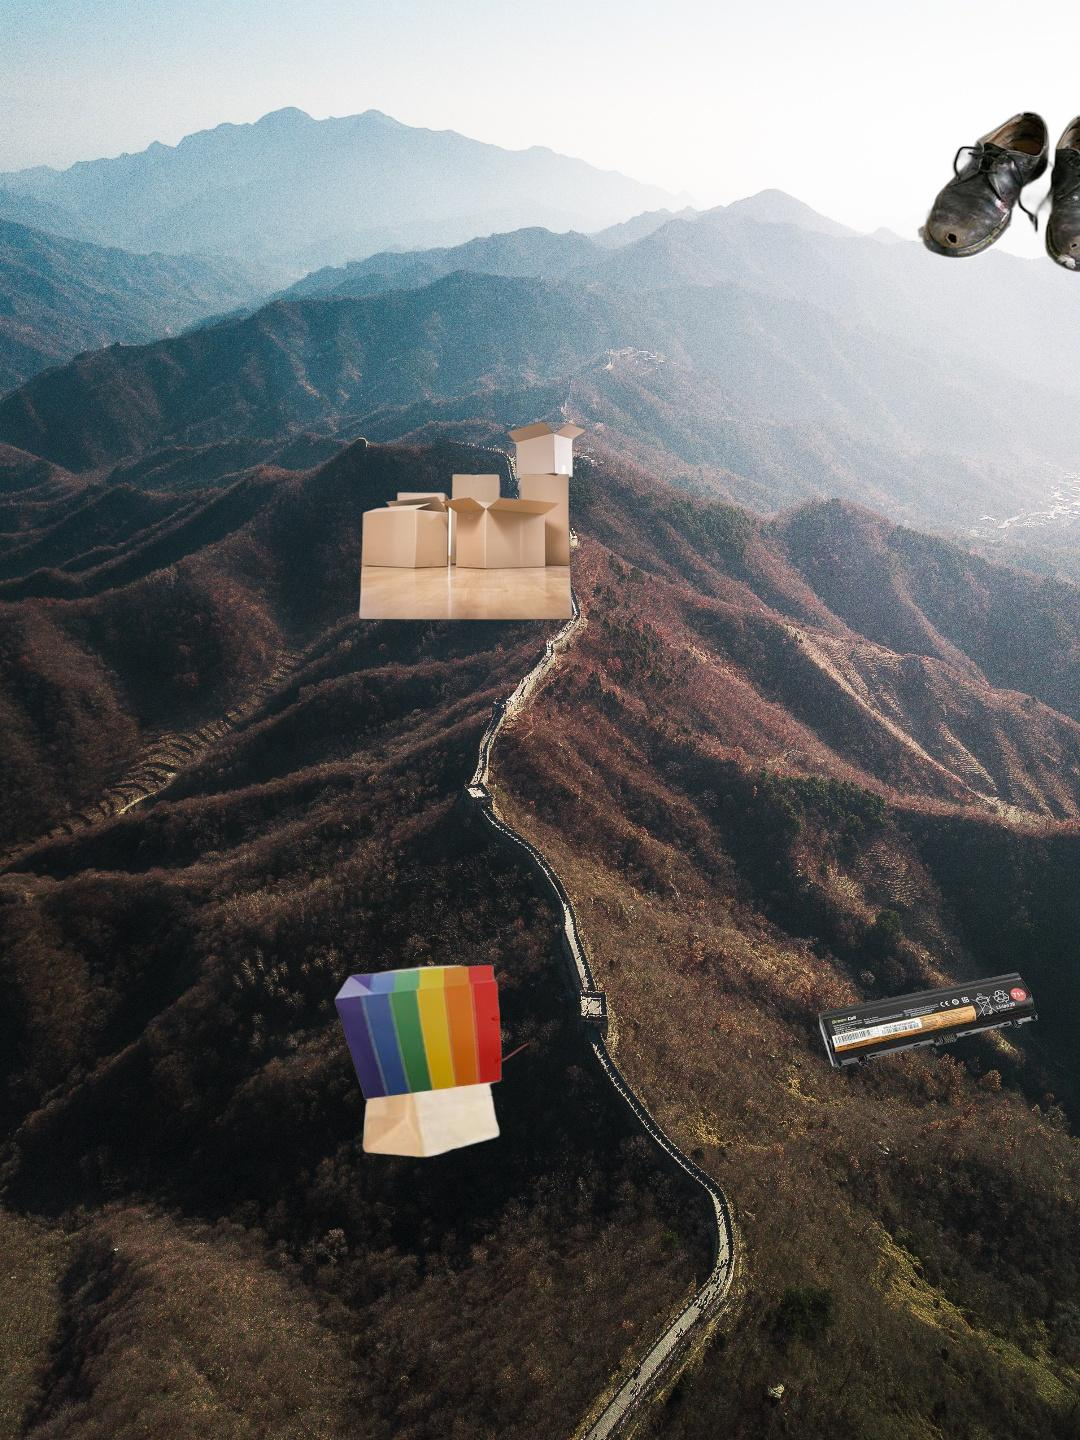battery: (817, 969, 1041, 1071)
paper-bag: (331, 962, 535, 1161)
shoes: (916, 109, 1080, 276)
trashbox-cardboard: (669, 1151, 1080, 1440), (314, 418, 590, 639)
